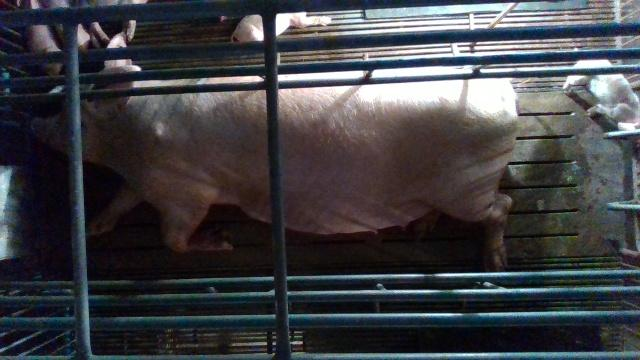piglet: (563, 60, 640, 129), (23, 0, 64, 77), (231, 12, 332, 43)
sow-sleep: (31, 32, 521, 270)
